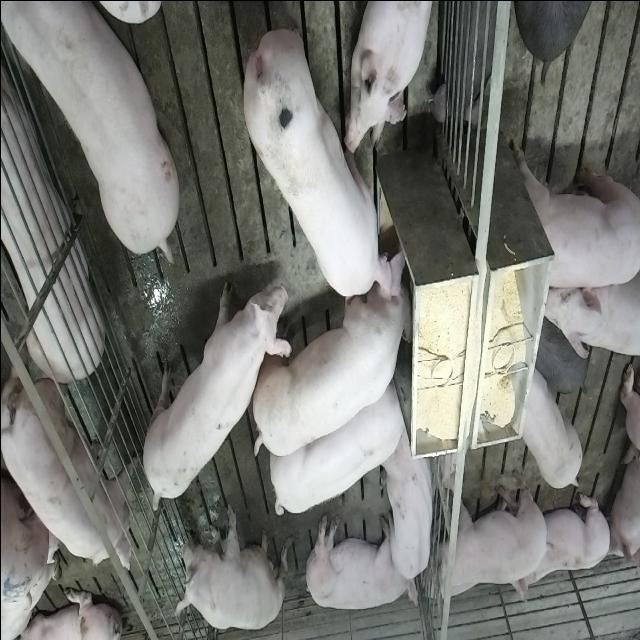Feeding: (240, 21, 396, 304), (253, 252, 420, 462)
Lateral_lying: (0, 38, 101, 384), (302, 512, 418, 612)
Sitting: (174, 503, 285, 632)
Standing: (0, 1, 176, 259), (136, 258, 284, 510), (0, 366, 134, 575), (268, 376, 408, 520), (512, 138, 639, 289), (424, 465, 550, 602), (540, 254, 640, 362), (516, 365, 584, 490), (534, 314, 590, 396)
Sternal_lying: (346, 0, 434, 151), (514, 484, 610, 604), (379, 431, 436, 591)
